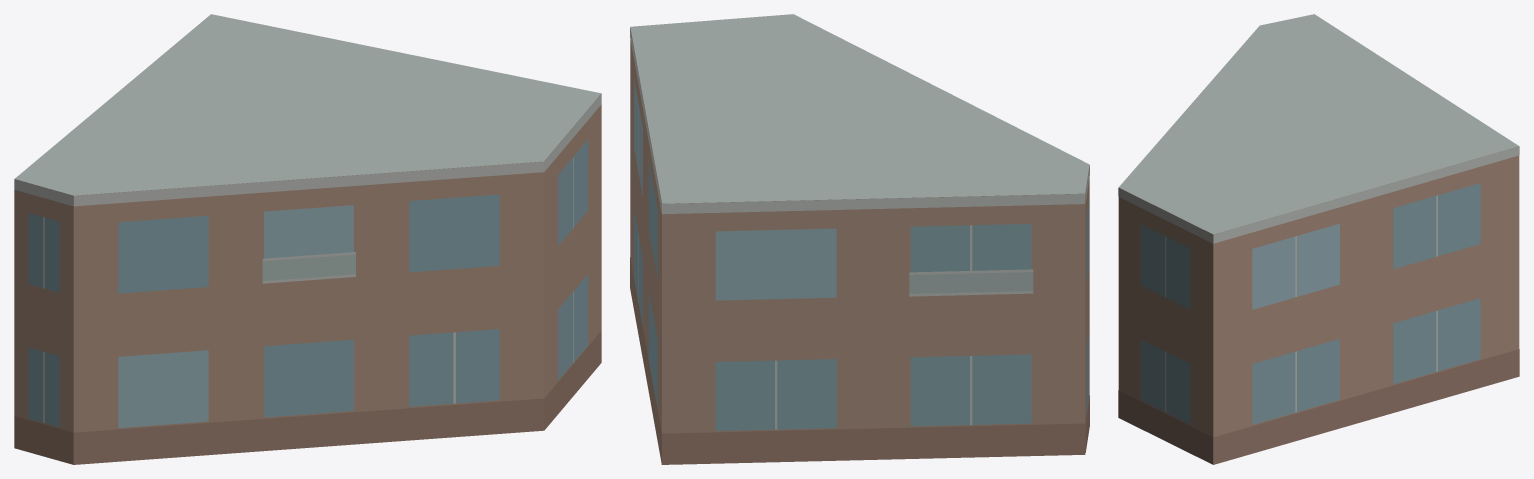
Rendered from survey-upis-32965987.glb.
3 views of the same model, side by side, from view 1: azimuth 30°, elevation 25°; view 2: azimuth 150°, elevation 25°; view 3: azimuth 270°, elevation 25° (orthographic). The views are drawn at different scales.
Parts seen in each view (by area): view 1: survey-upis-32965987.tmp; view 2: survey-upis-32965987.tmp; view 3: survey-upis-32965987.tmp.
Boxes of the visible parts, x1,y1,x2,y2 form: survey-upis-32965987.tmp: (14,14,601,464); survey-upis-32965987.tmp: (630,14,1089,464); survey-upis-32965987.tmp: (1118,14,1519,464).
Size of the model in its own units: 12.53 by 6.1 by 9.63.
